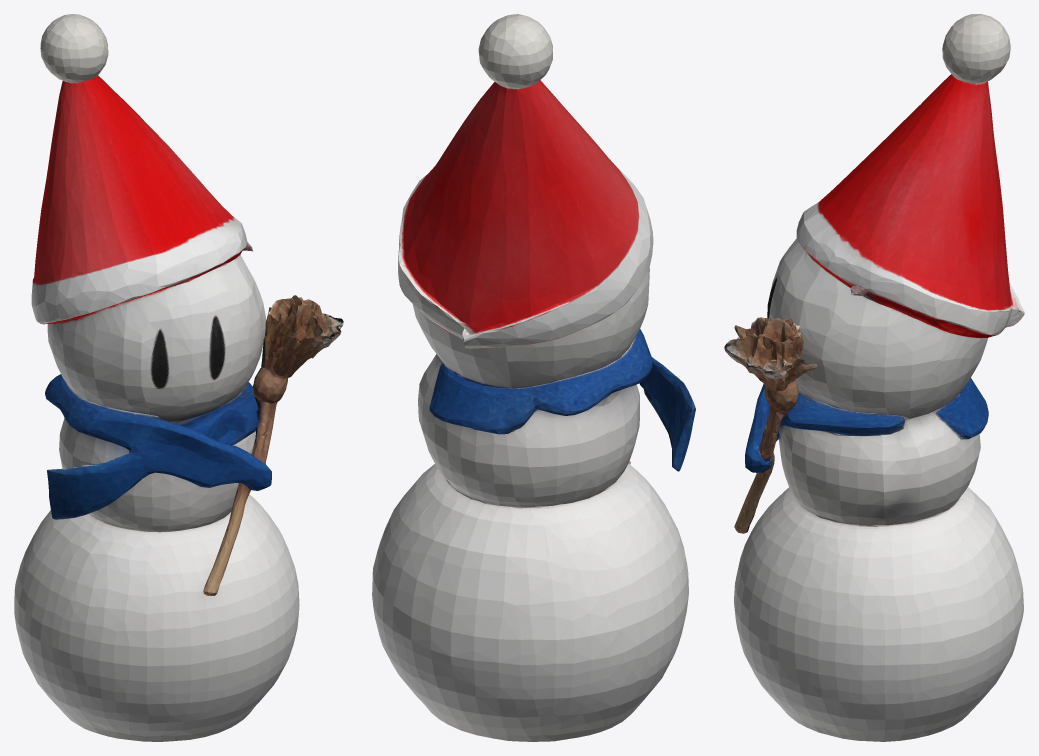
Rendered from magoo.glb.
3 renders of one model, left to right at view 1: azimuth 30°, elevation 25°; view 2: azimuth 150°, elevation 25°; view 3: azimuth 270°, elevation 25°, orthographic. The views are drawn at different scales.
Parts seen in each view (by area): view 1: world; view 2: world; view 3: world.
Boxes of the visible parts, x1,y1,x2,y2 form: world: (14, 14, 343, 741); world: (372, 14, 695, 741); world: (724, 14, 1024, 741).
Size of the model in its own units: 0.4164 by 1 by 0.4091.
1 material, 1 textured.
